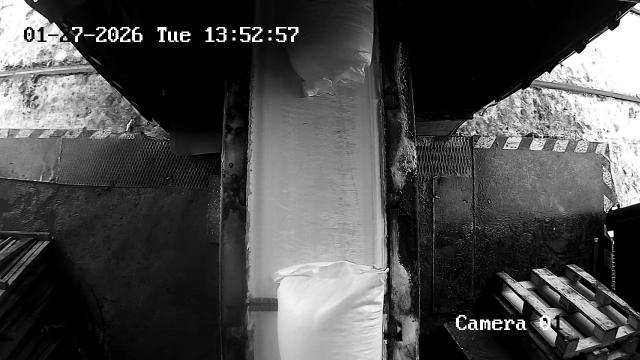bag: (272, 260, 388, 360), (288, 0, 374, 96)
